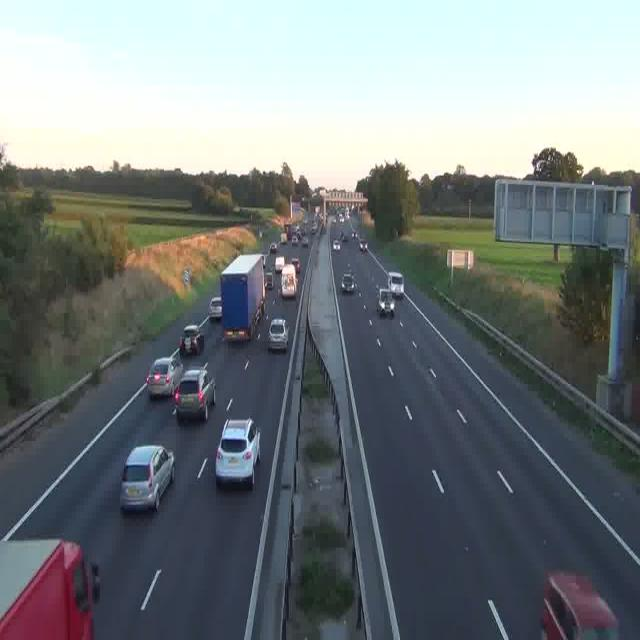car: (541, 571, 618, 640), (120, 444, 174, 510), (216, 418, 260, 487), (175, 370, 216, 421), (146, 356, 182, 400), (180, 322, 205, 357), (269, 318, 289, 350), (376, 286, 393, 316), (388, 273, 404, 299), (208, 297, 224, 321), (342, 273, 354, 294), (333, 238, 341, 251), (360, 240, 368, 252), (300, 235, 308, 246)
truck: (0, 538, 100, 639), (218, 253, 264, 339), (280, 260, 297, 297)
